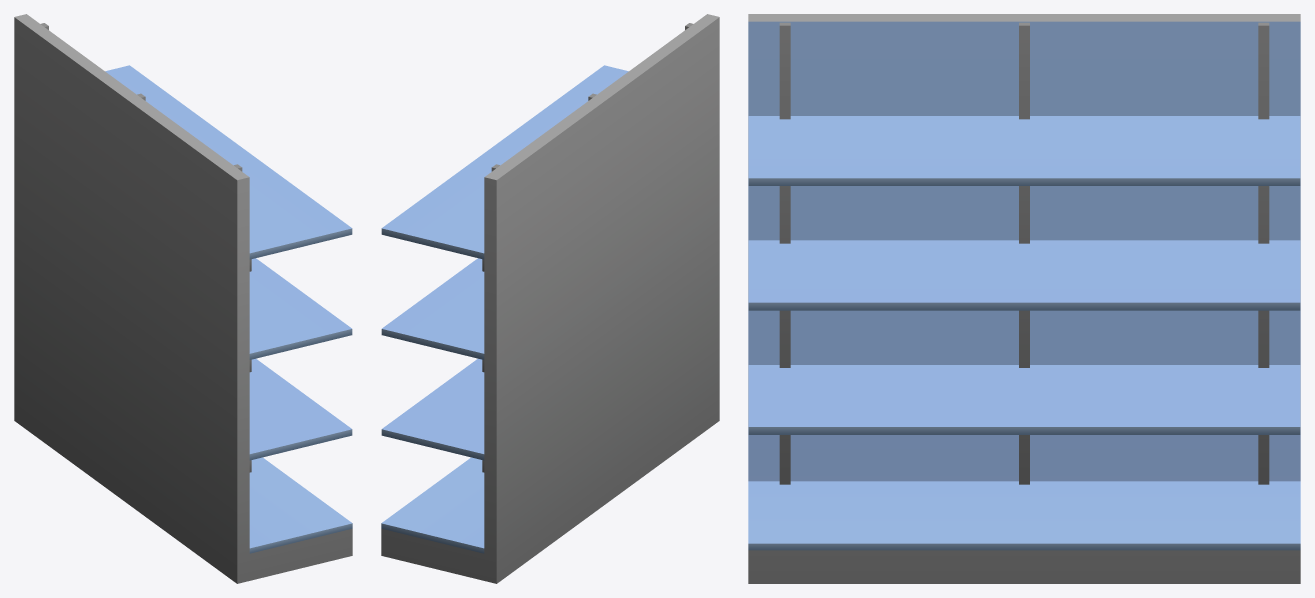
Rendered from shelf.fbx.
3 views of the same model, side by side, from view 1: azimuth 30°, elevation 25°; view 2: azimuth 150°, elevation 25°; view 3: azimuth 270°, elevation 25° (orthographic). The views are drawn at different scales.
Visible parts, largest first — view 1: Cube.044; view 2: Cube.044; view 3: Cube.044.
Part boxes in pixels (box(x1,y1,x2,y2)): Cube.044: box(14, 14, 352, 583); Cube.044: box(381, 14, 719, 583); Cube.044: box(748, 14, 1300, 583).
Size of the model in its own units: 20.17 by 67.32 by 67.4.
Materials: 1 (1 with a texture image).
